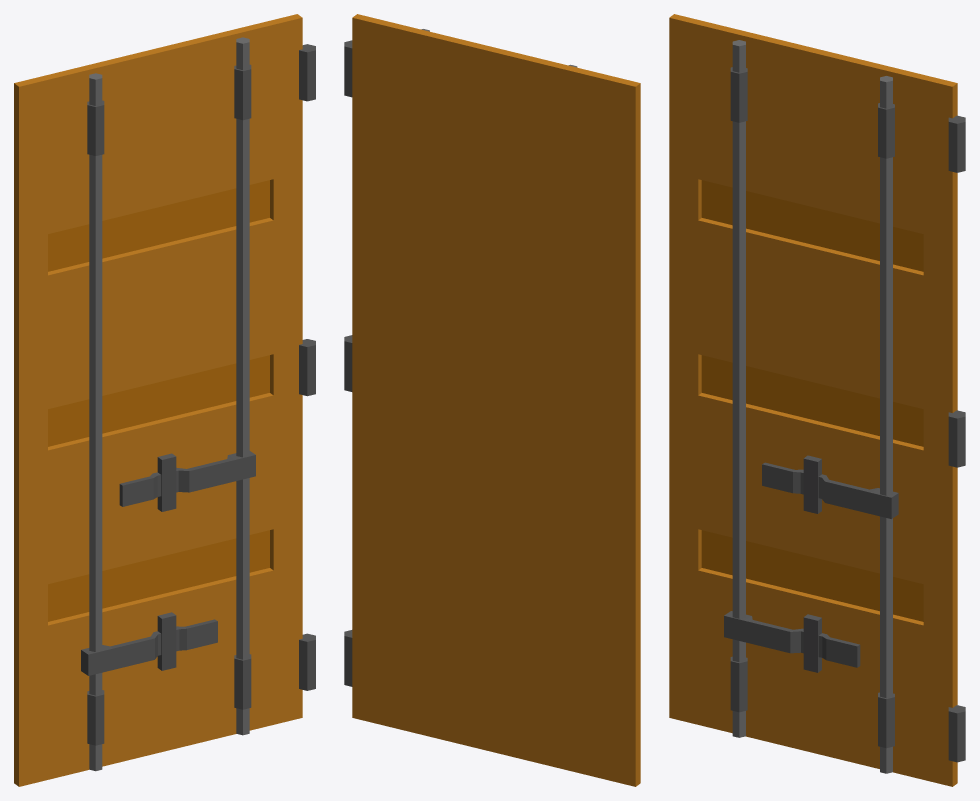
The model's file is SM_Props_ShippingContainer_Door2_R.glb.
3 renders of one model, left to right at view 1: azimuth 30°, elevation 25°; view 2: azimuth 150°, elevation 25°; view 3: azimuth 330°, elevation 25°, orthographic.
Visible parts, largest first — view 1: SM_Props_ShippingContainer_Door2_R; view 2: SM_Props_ShippingContainer_Door2_R; view 3: SM_Props_ShippingContainer_Door2_R.
Part boxes in pixels (x1,y1,x2,y2): SM_Props_ShippingContainer_Door2_R: (14,14,315,786); SM_Props_ShippingContainer_Door2_R: (344,14,640,786); SM_Props_ShippingContainer_Door2_R: (669,14,965,786).
Bounding box in the file's own units: 1.17 × 2.63 × 0.0859.
Materials: 1 (1 with a texture image).
